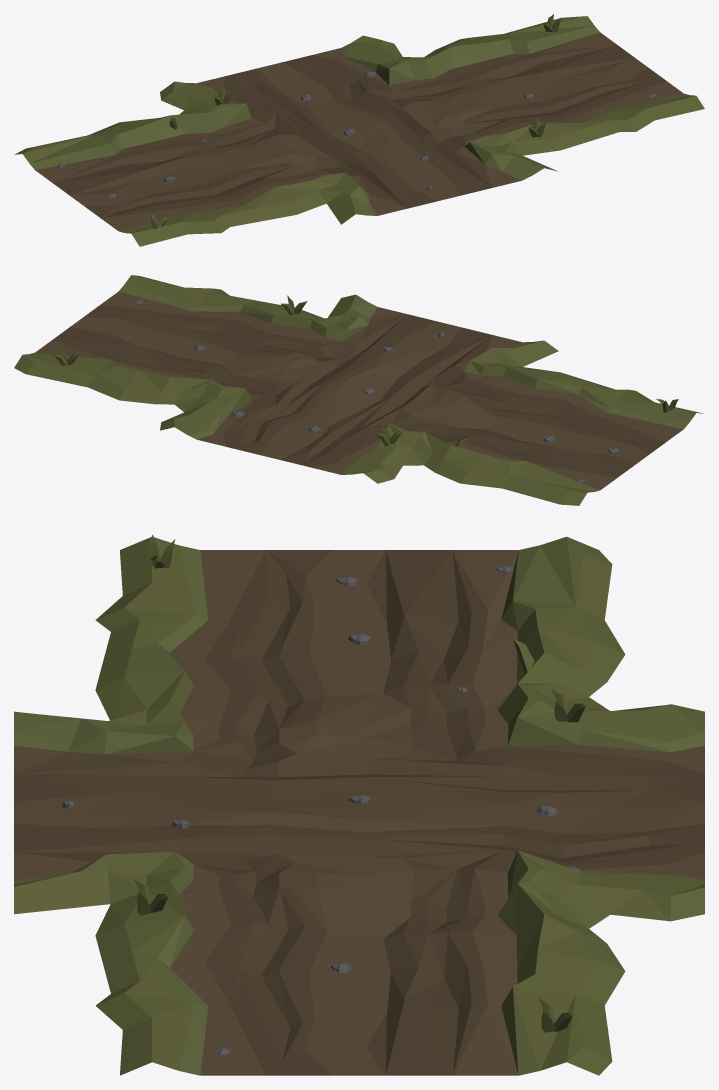
Rendered from road_cross.glb.
The picture shows the model from 3 angles, top to bottom: view 1: azimuth 30°, elevation 25°; view 2: azimuth 150°, elevation 25°; view 3: azimuth 270°, elevation 25°; orthographic projection. The views are drawn at different scales.
Parts seen in each view (by area): view 1: SM_Env_Road_Cross_01; view 2: SM_Env_Road_Cross_01; view 3: SM_Env_Road_Cross_01.
Boxes of the visible parts, x1=… form: SM_Env_Road_Cross_01: x1=14, y1=14, x2=704, y2=246; SM_Env_Road_Cross_01: x1=14, y1=275, x2=702, y2=505; SM_Env_Road_Cross_01: x1=14, y1=534, x2=704, y2=1075.
Bounding box in the file's own units: 900 × 41.79 × 500.
Materials: 1 (1 with a texture image).
